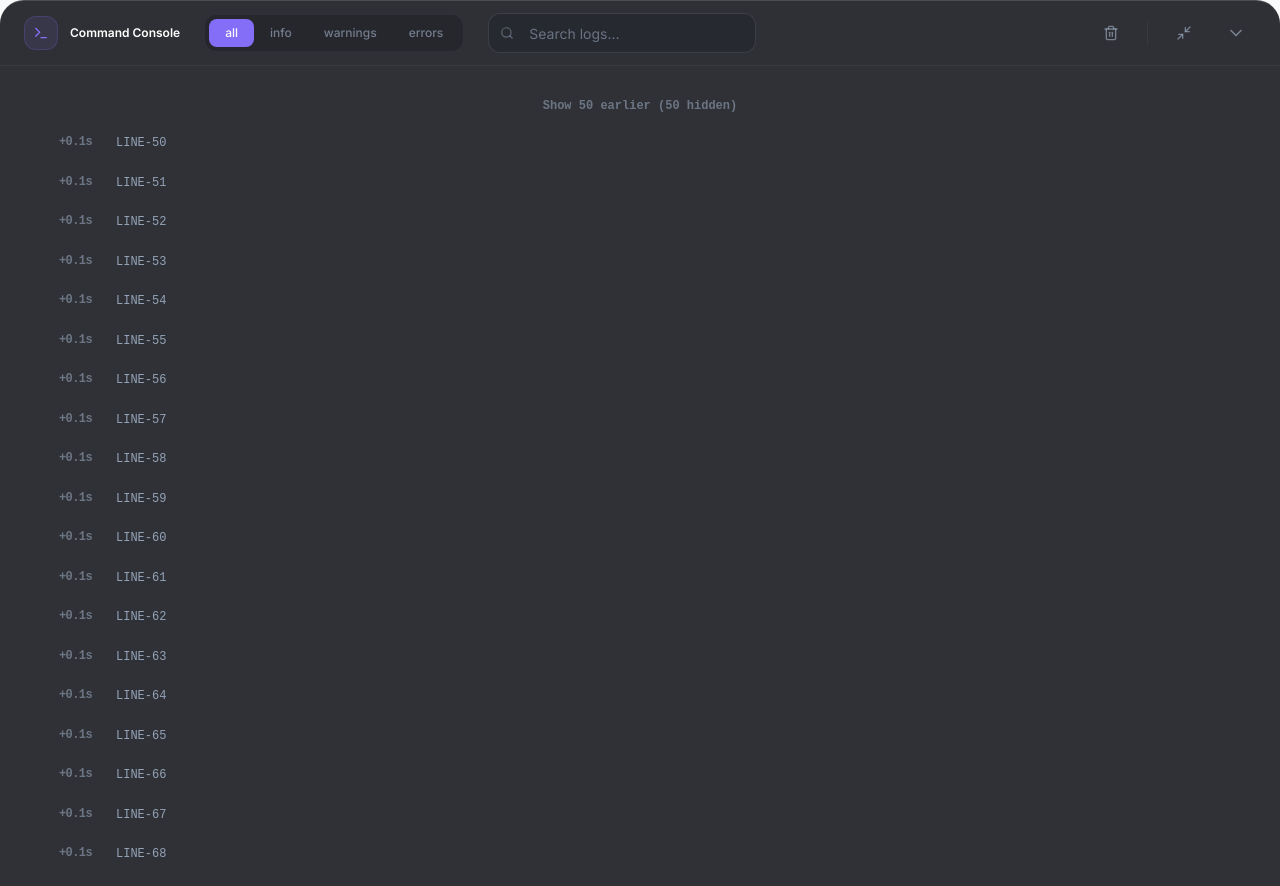
Terminal › renders only the newest window and reveals earlier rows on request
Expected: the text "LINE-0" is not shown
Click the button "Show 50 earlier (50 hidden)". click: (640, 106)
box: [24, 90, 1256, 122]
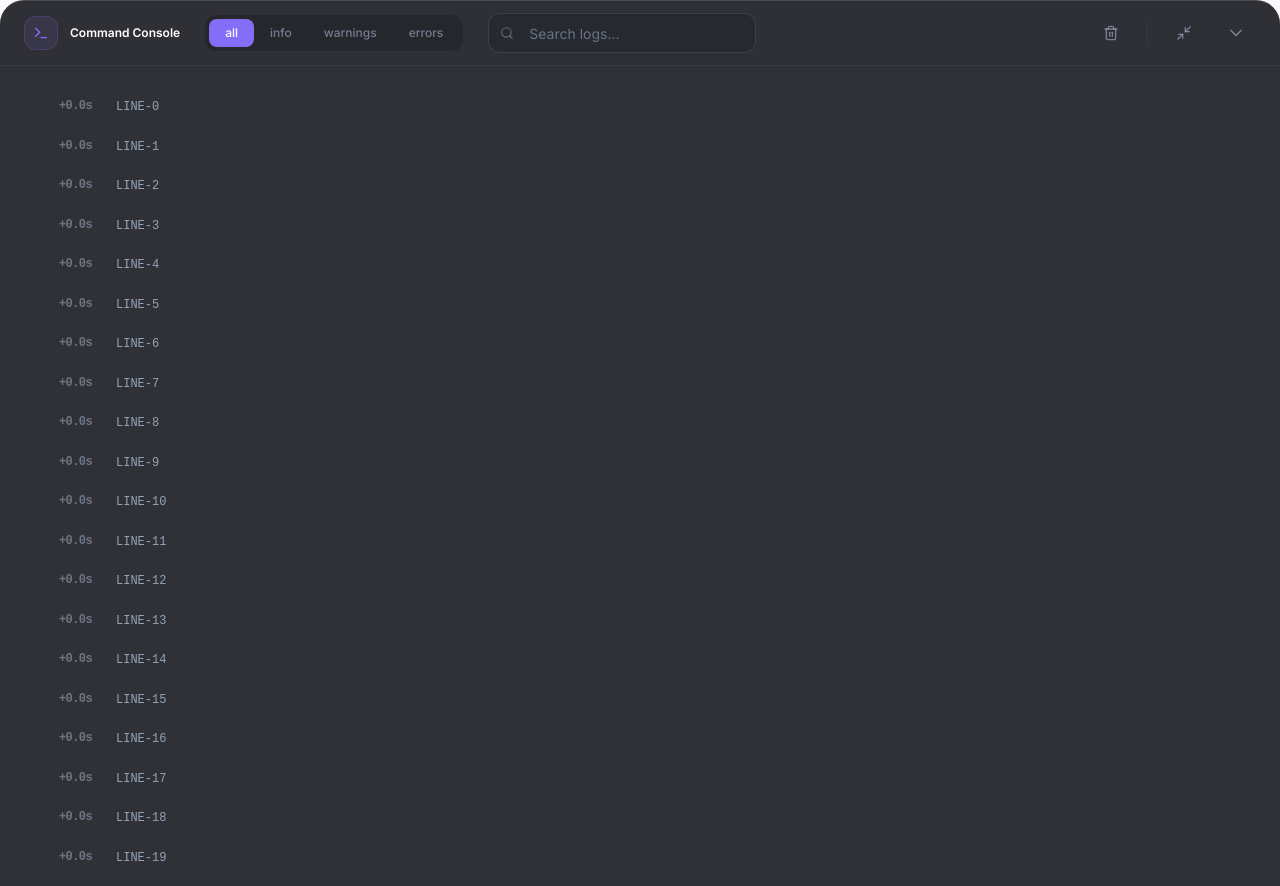
Expected: the text "LINE-0" is shown, [116, 100, 159, 114]
